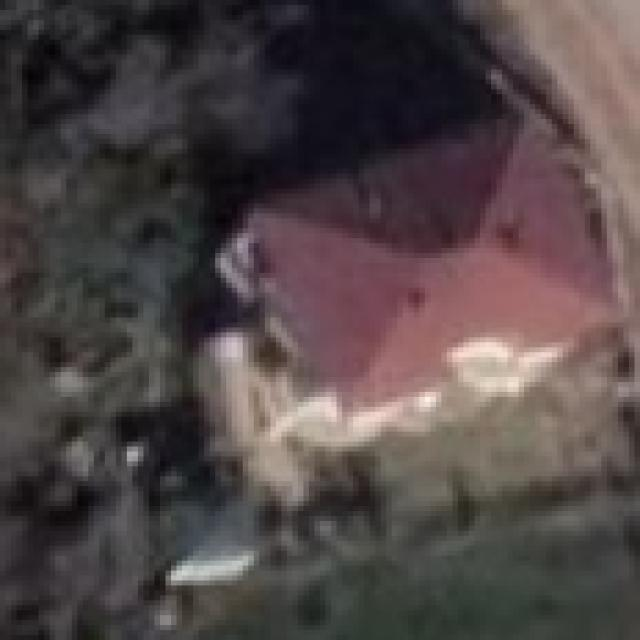Batiment: (256, 108, 616, 404)
